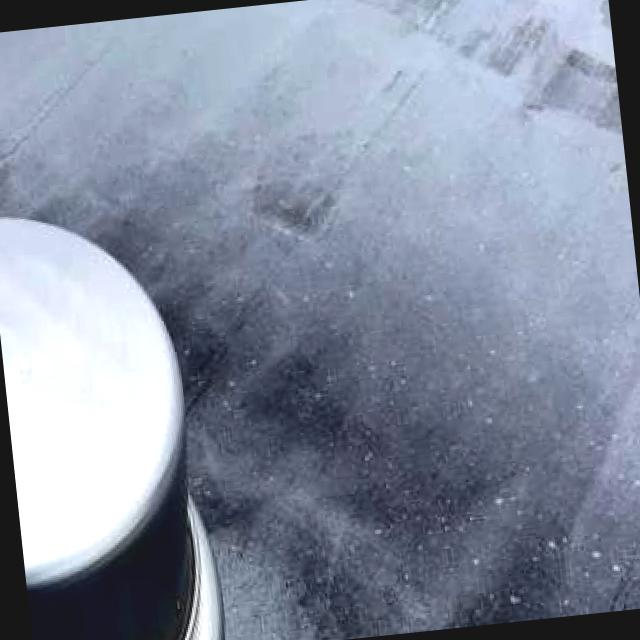GRAVITY-VENT: (0, 176, 260, 640)
